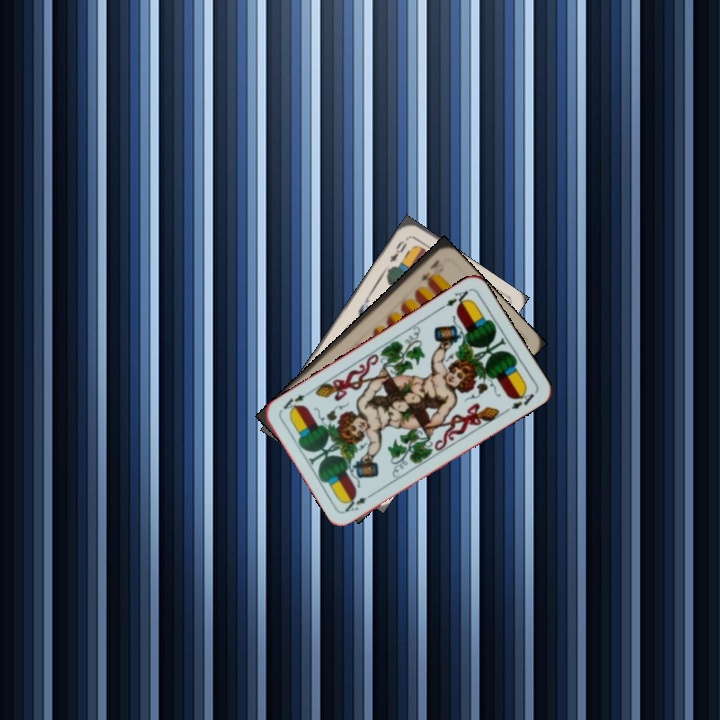E10: (416, 255, 442, 285)
EA: (436, 285, 473, 312), (341, 488, 377, 515)
EO: (385, 237, 410, 265)
